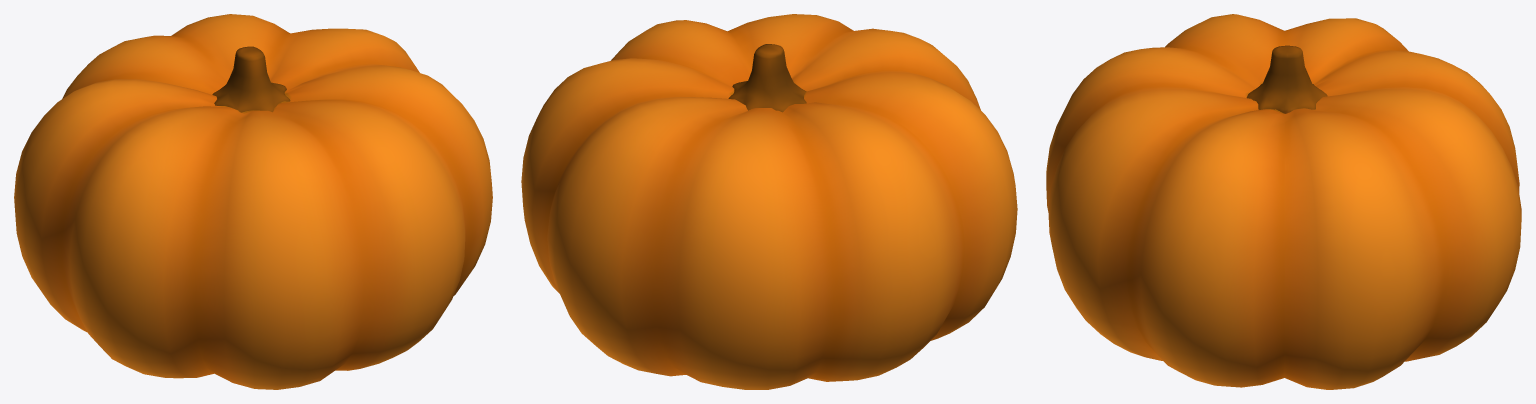
The model's file is NanGua.FBX.
3 views of the same model, side by side, from view 1: azimuth 30°, elevation 25°; view 2: azimuth 150°, elevation 25°; view 3: azimuth 270°, elevation 25° (orthographic). The views are drawn at different scales.
Visible parts, largest first — view 1: NanGua; view 2: NanGua; view 3: NanGua.
Boxes of the visible parts, x1,y1,x2,y2 form: NanGua: (14, 14, 492, 389); NanGua: (521, 14, 1017, 389); NanGua: (1046, 14, 1521, 389).
Bounding box in the file's own units: 106 × 69.66 × 106.
Materials: 1 (1 with a texture image).
